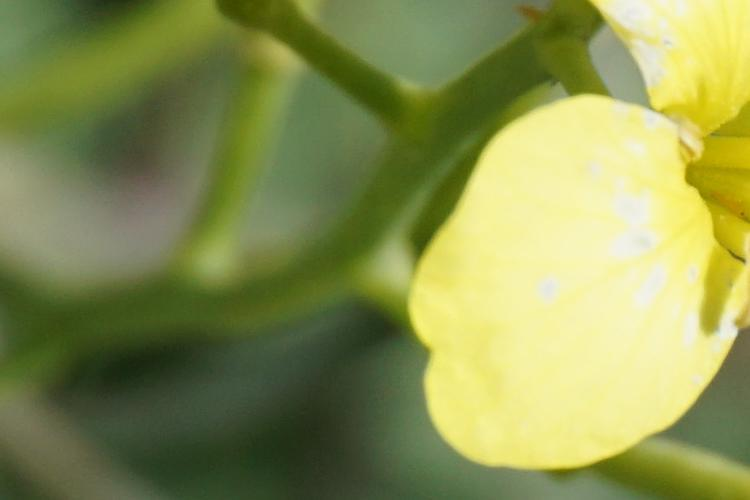yellow: (415, 76, 750, 481)
